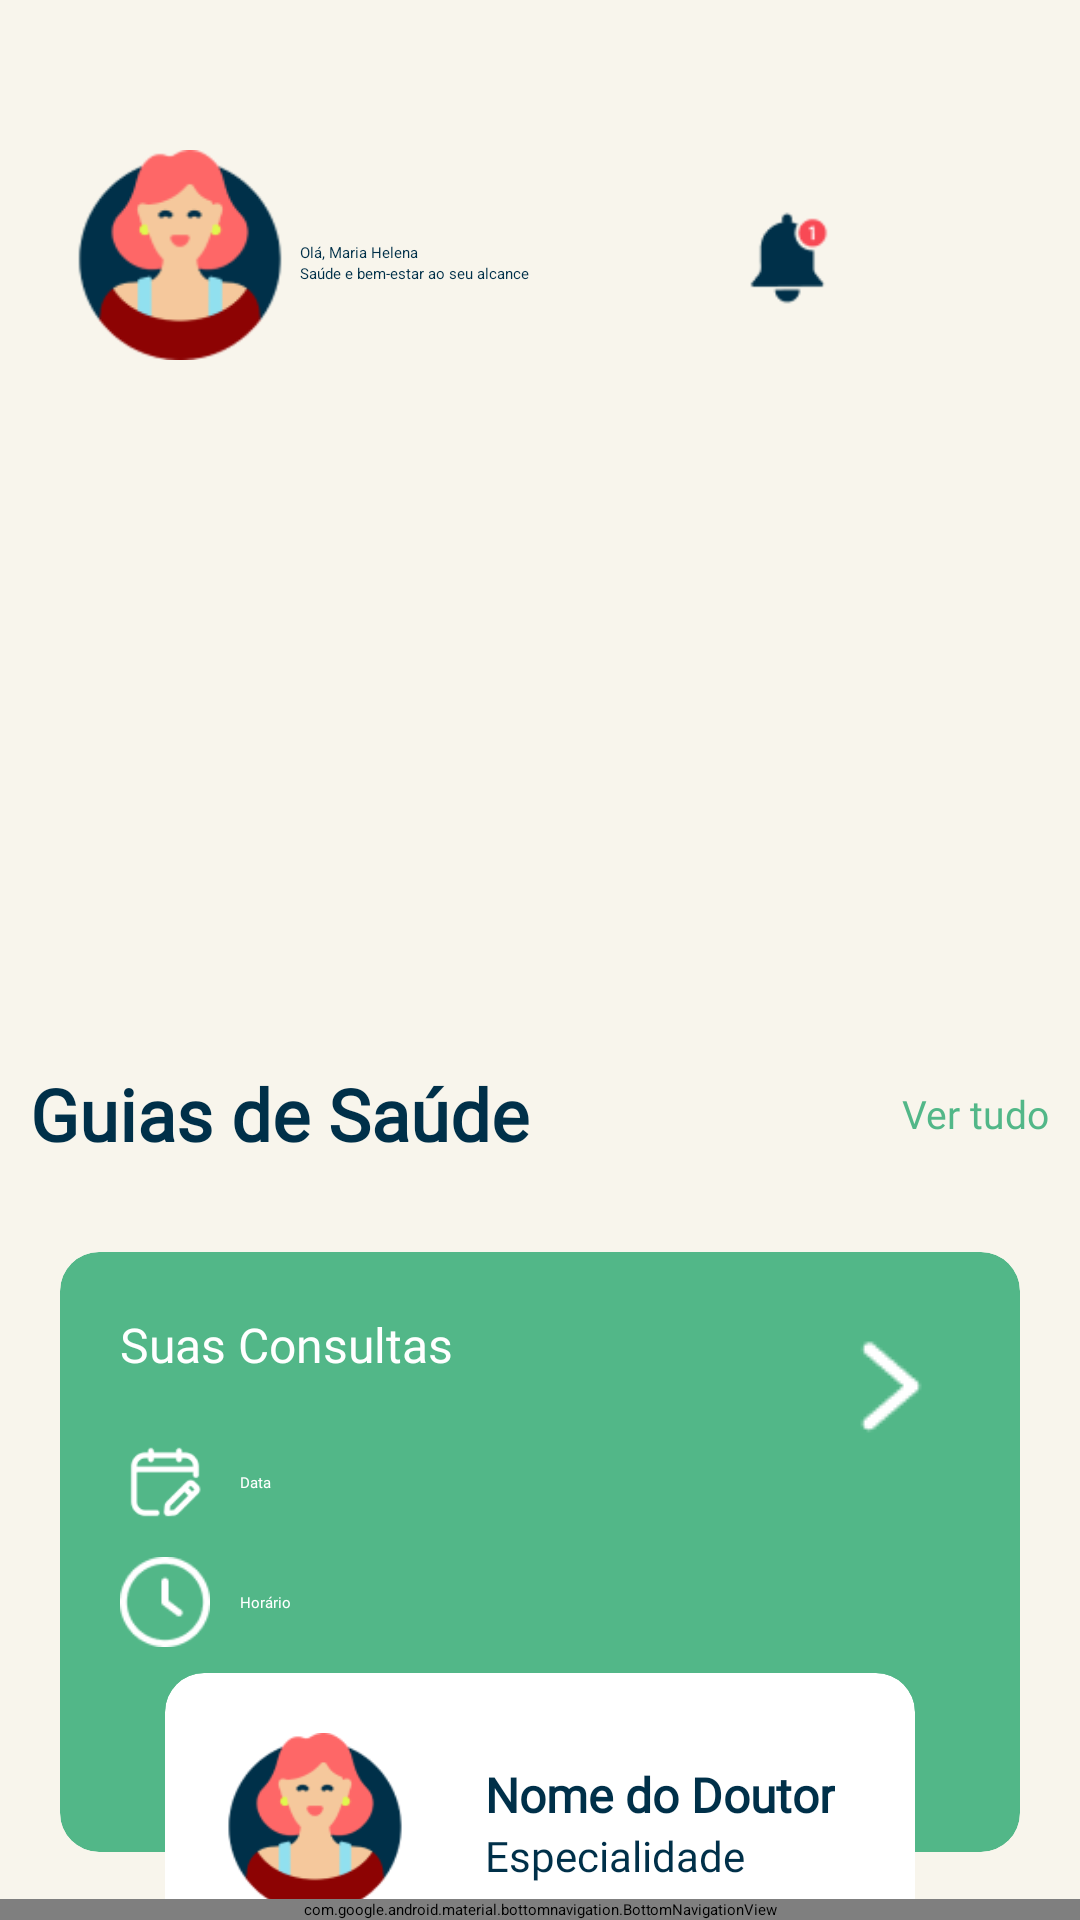

Icon bounding boxes for this 1080px×1920px phone screenshot, format (x1, y1, x2, y2):
clock: (120, 1557, 210, 1647)
schedule edit: (130, 1448, 201, 1517)
